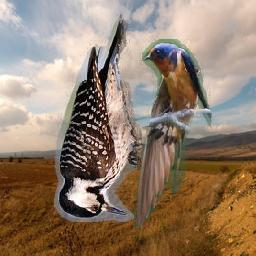Swallow: (134, 40, 213, 229)
Woodpecker: (54, 14, 142, 222)
